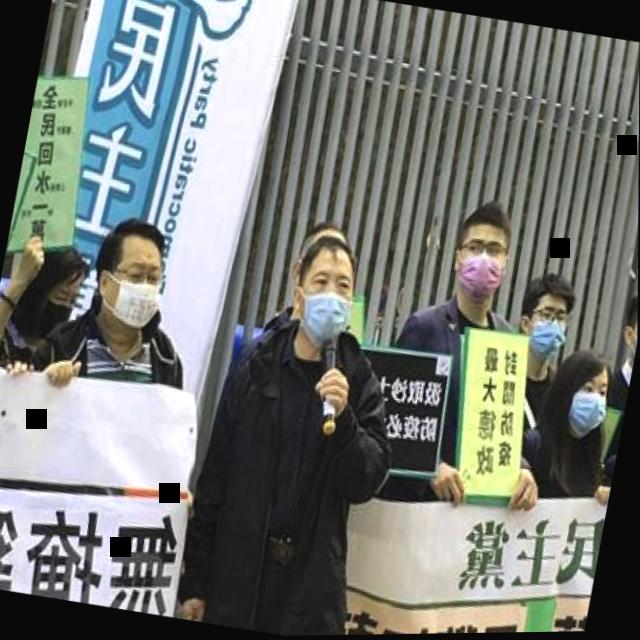Mask: (294, 257, 361, 353), (99, 244, 171, 333), (452, 229, 509, 306), (565, 374, 611, 445), (31, 277, 82, 340), (525, 302, 572, 361), (625, 310, 638, 367)
